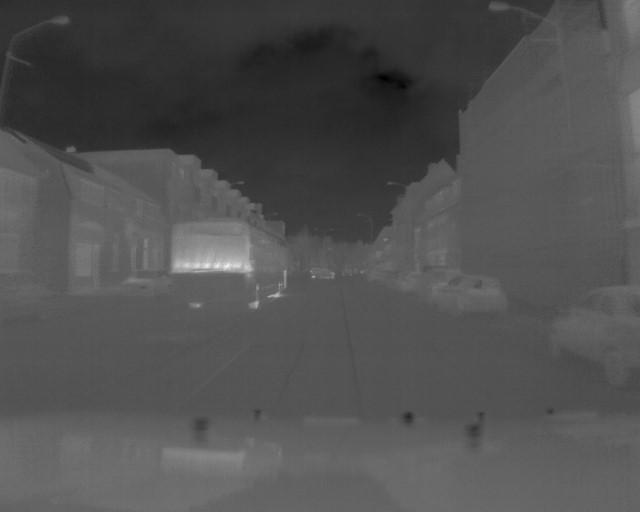car: (169, 218, 292, 314), (548, 285, 639, 387), (439, 275, 508, 317)
